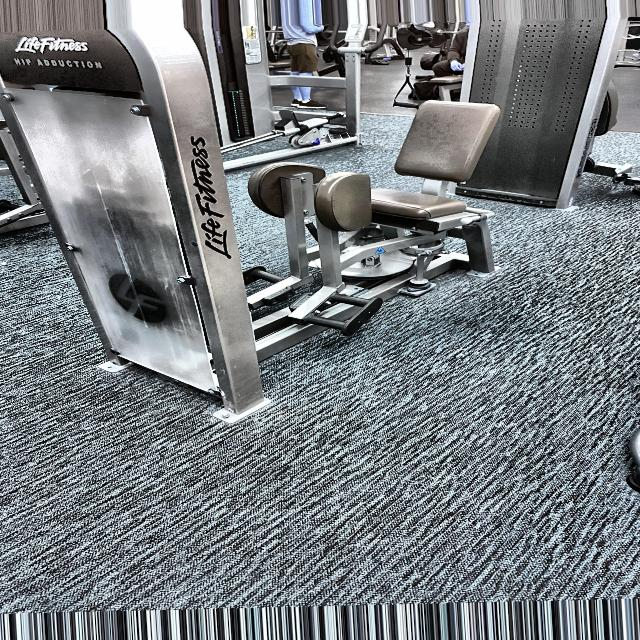hip_adduction_machine: (236, 16, 547, 374), (13, 49, 115, 84)
